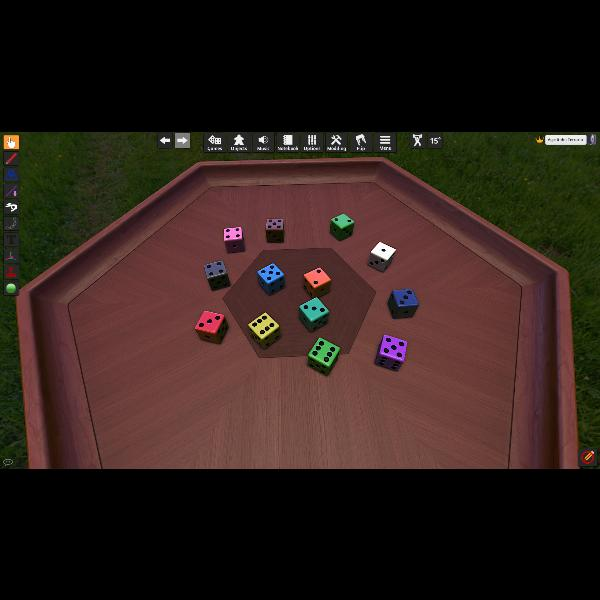d6: (308, 338, 340, 375), (248, 312, 280, 348), (375, 334, 407, 370), (196, 311, 228, 344), (298, 297, 327, 331), (388, 288, 418, 318), (257, 262, 285, 294), (304, 266, 330, 298), (368, 241, 394, 273), (204, 260, 230, 290), (330, 214, 354, 241), (223, 226, 245, 254), (266, 218, 284, 242)
